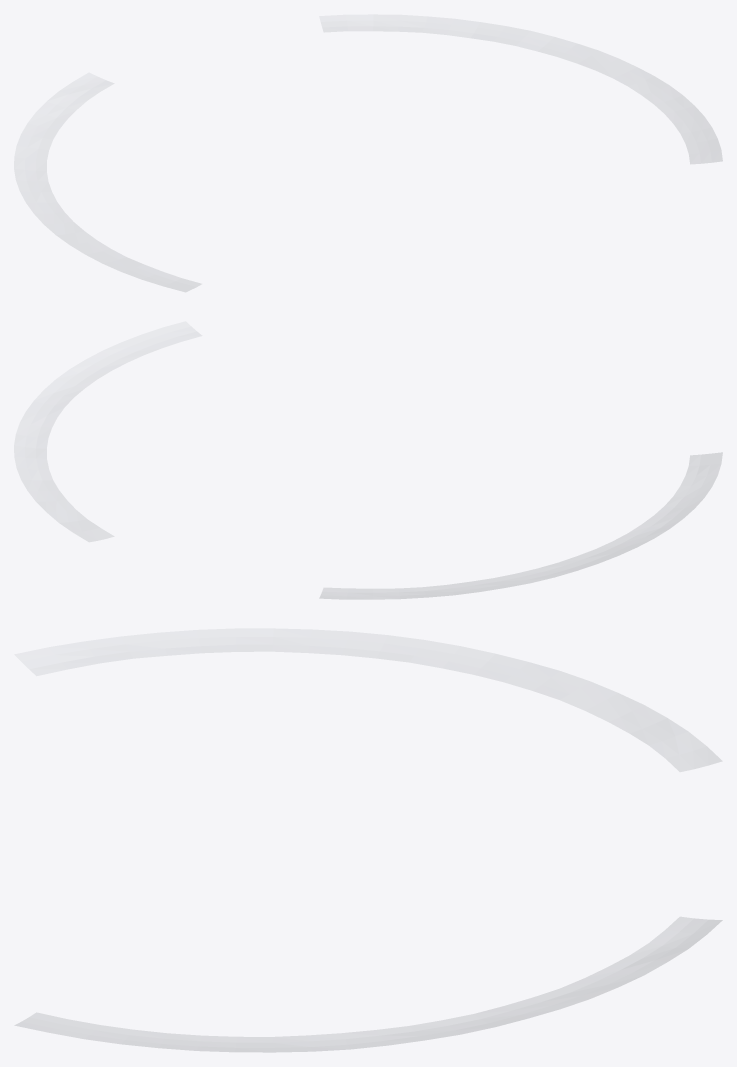
The model's file is Drifts_3.obj.
3 renders of one model, top to bottom at view 1: azimuth 30°, elevation 25°; view 2: azimuth 150°, elevation 25°; view 3: azimuth 270°, elevation 25°, orthographic. The views are drawn at different scales.
Visible parts, largest first — view 1: Drifts_3; view 2: Drifts_3; view 3: Drifts_3.
Part boxes in pixels (<box>): Drifts_3: <box>14,14,722,292</box>; Drifts_3: <box>14,321,722,599</box>; Drifts_3: <box>14,628,722,1052</box>.
Size of the model in its own units: 58.27 by 0.3285 by 41.16.
1 material, 1 textured.
